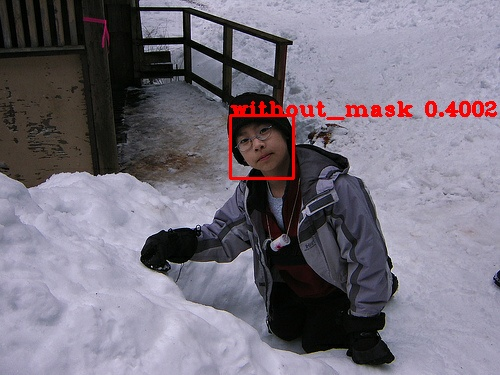without_mask: (228, 120, 298, 177)
